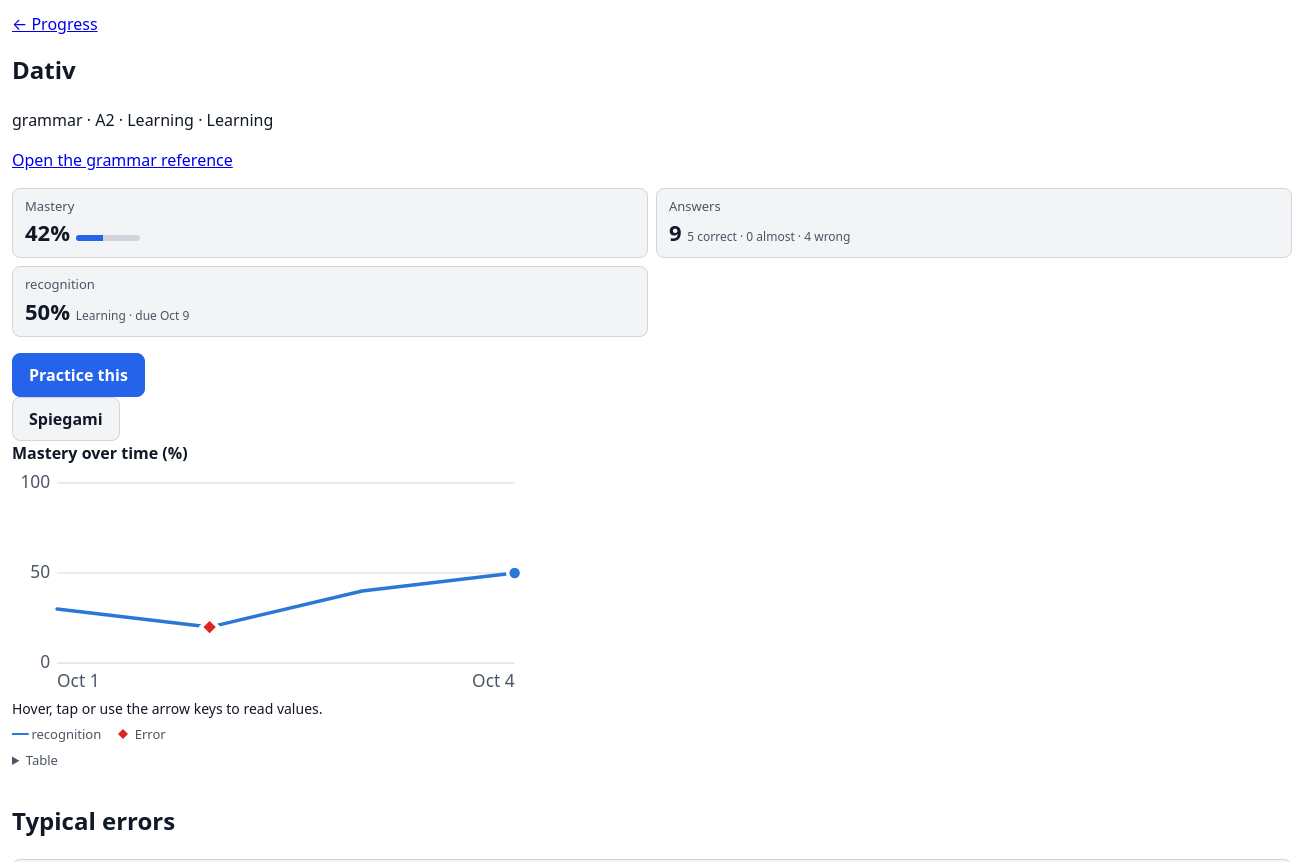
progress item detail › explains from the latest mistake and queues practice
The image size is (1292, 862).
Click the button "Spiegami": [66, 419] box [12,397,120,441]
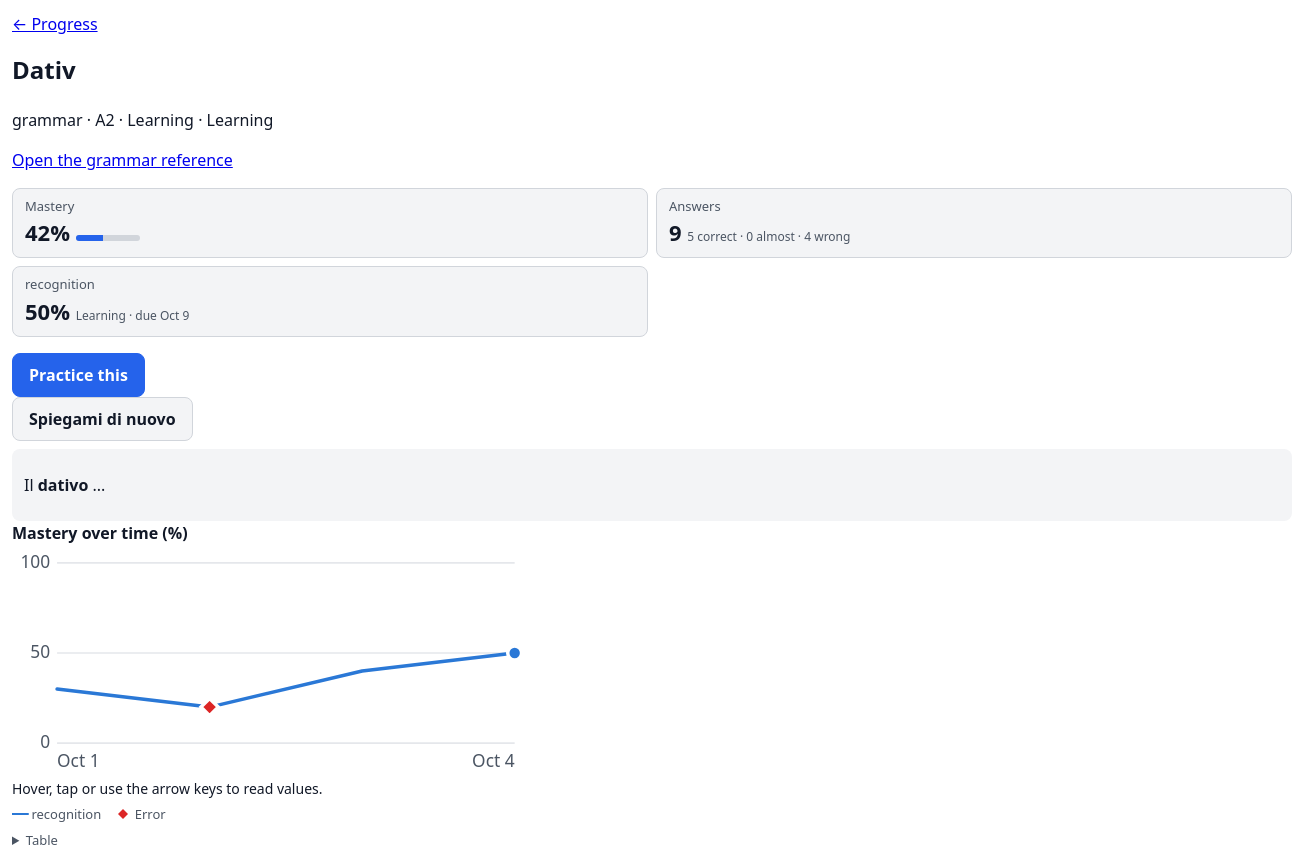
Expected: the text "dativo" is shown, [38,474,88,496]
Click the button "Practice this": [78, 375] box [12,353,145,397]
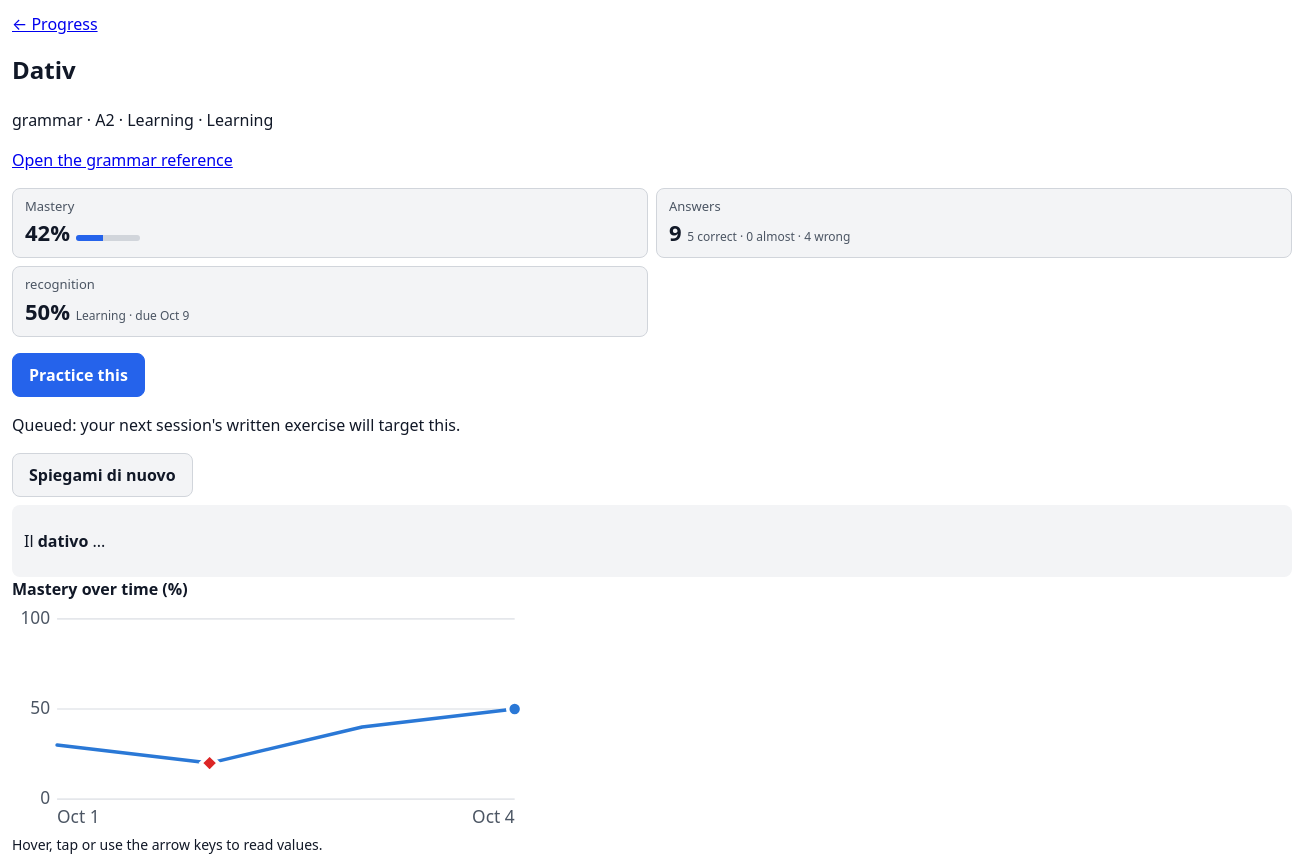
Expected: the text "Queued: your next session's written exercise will target this." is shown, [12,413,460,437]
